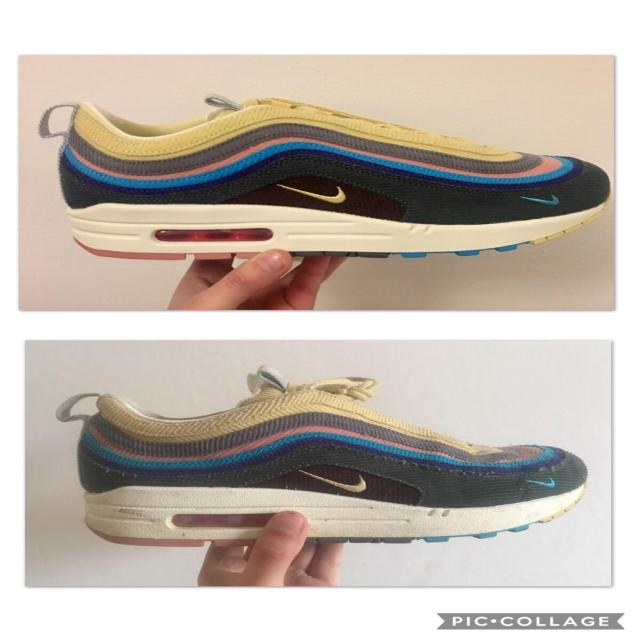shoe: (20, 73, 629, 268), (39, 372, 598, 578)
